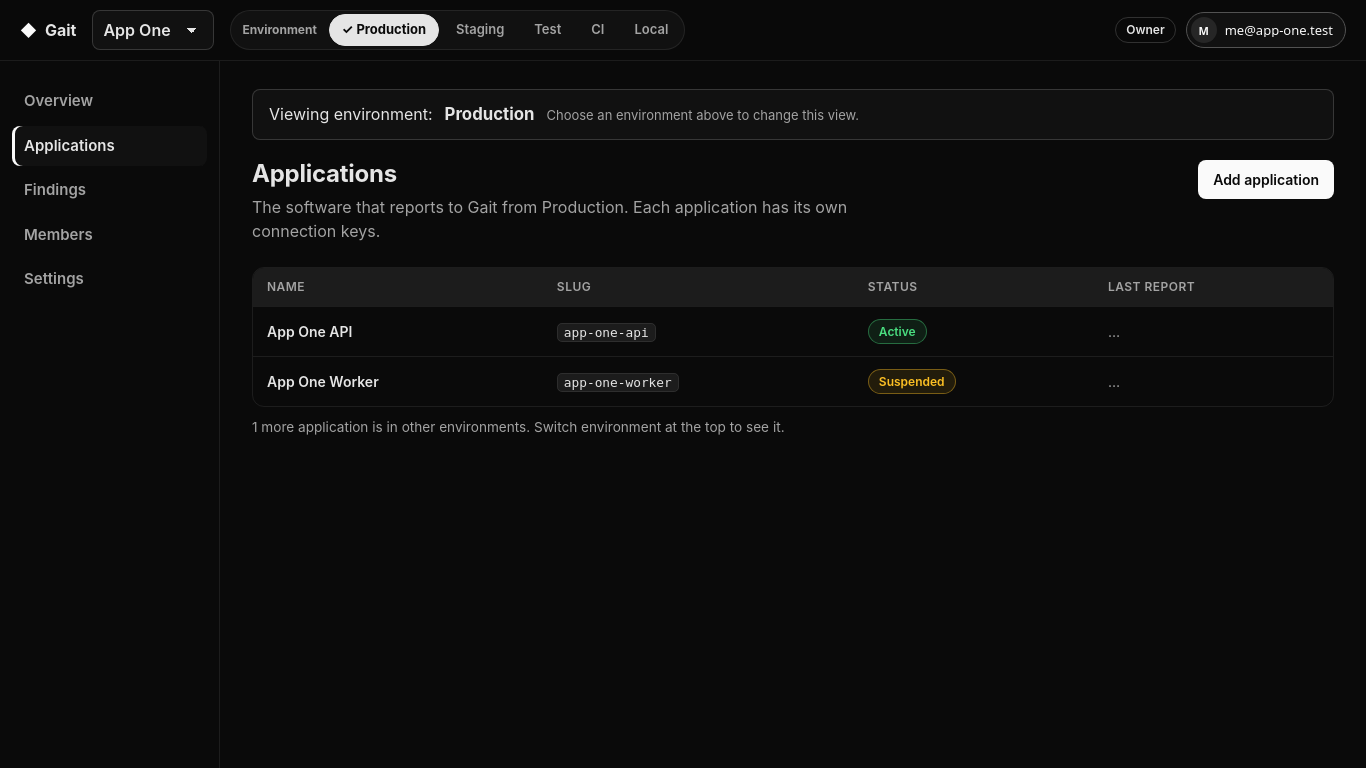
it: F2 application list › a duplicate slug shows Gait's own message
Click the button "Add application": [1266, 180] box [1198,160,1334,199]
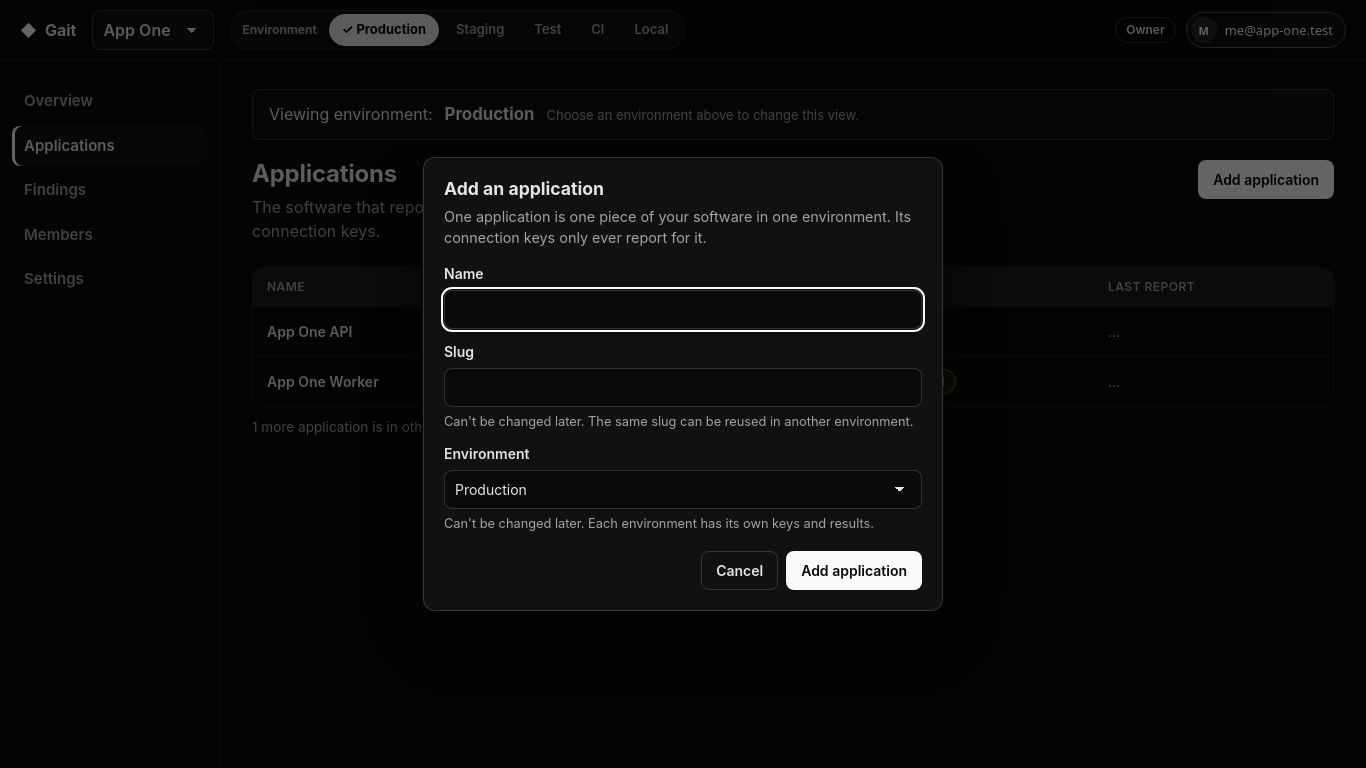
In the field labelled "Name": [683, 309] box [444,290,922,329], type "App One API"
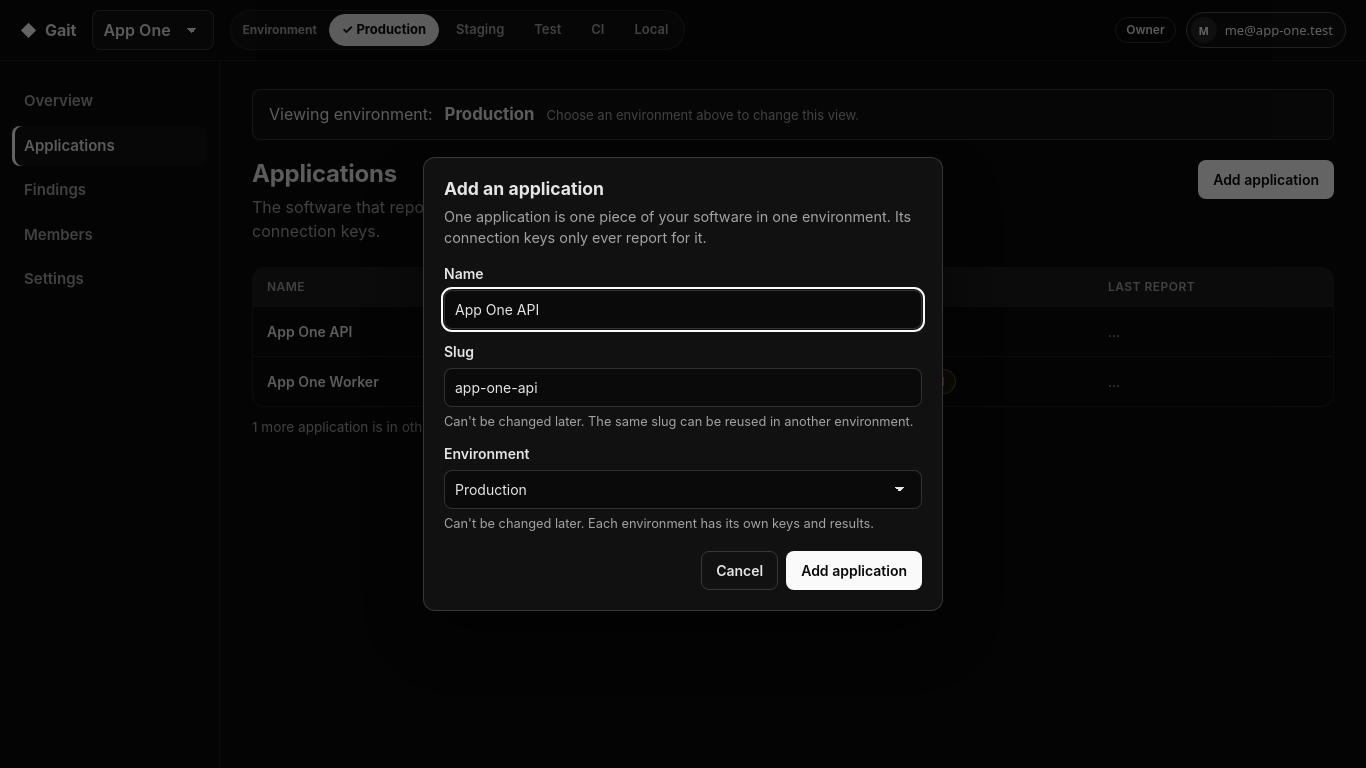
Click the button "Add application": [854, 570] box [786,551,922,590]
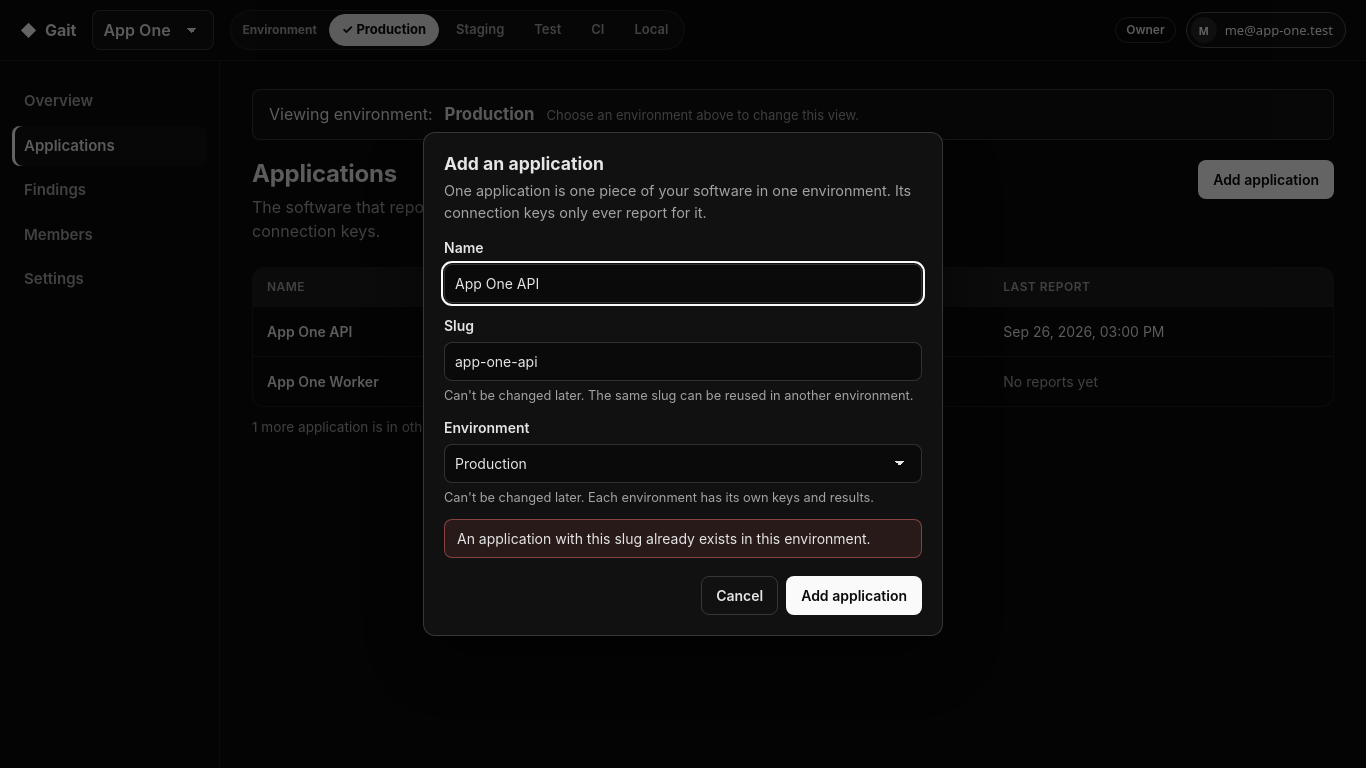
Expected: the text "An application with this slug already exists in this environment." is shown, [444,519,922,558]
